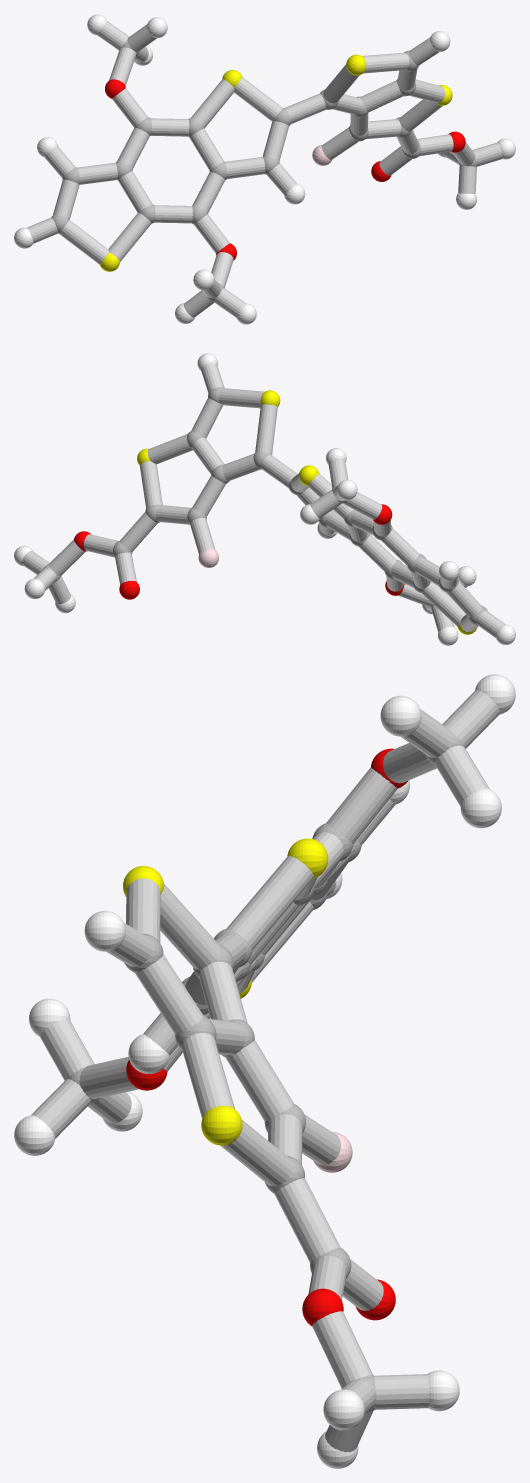
File: color.glb
The picture shows the model from 3 angles, top to bottom: view 1: azimuth 30°, elevation 25°; view 2: azimuth 150°, elevation 25°; view 3: azimuth 270°, elevation 25°; orthographic projection. The views are drawn at different scales.
Visible parts, largest first — view 1: grp15205, grp8689, grp1, grp7241, grp13395; view 2: grp15205, grp8689, grp1, grp13395, grp7241; view 3: grp15205, grp8689, grp1, grp7241, grp13395.
Part boxes in pixels (bbox=[...]): grp15205: bbox=[27, 21, 502, 317]; grp8689: bbox=[14, 14, 515, 324]; grp1: bbox=[51, 39, 476, 302]; grp7241: bbox=[100, 54, 452, 271]; grp13395: bbox=[105, 79, 465, 260]; grp15205: bbox=[22, 364, 505, 637]; grp8689: bbox=[14, 353, 515, 645]; grp1: bbox=[42, 387, 487, 625]; grp13395: bbox=[74, 504, 404, 599]; grp7241: bbox=[137, 390, 476, 634]; grp15205: bbox=[31, 690, 500, 1452]; grp8689: bbox=[14, 674, 515, 1468]; grp1: bbox=[67, 731, 463, 1412]; grp7241: bbox=[123, 838, 328, 1145]; grp13395: bbox=[126, 748, 407, 1326].
Size of the model in its own units: 16.54 by 7.84 by 7.28.
